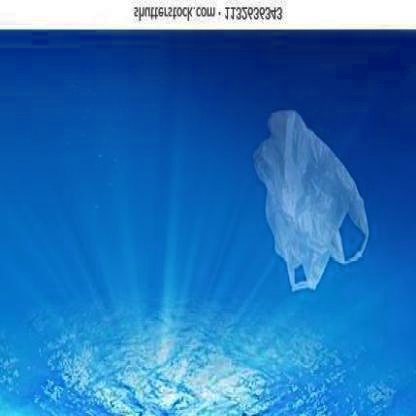pbag: (252, 108, 371, 292)
